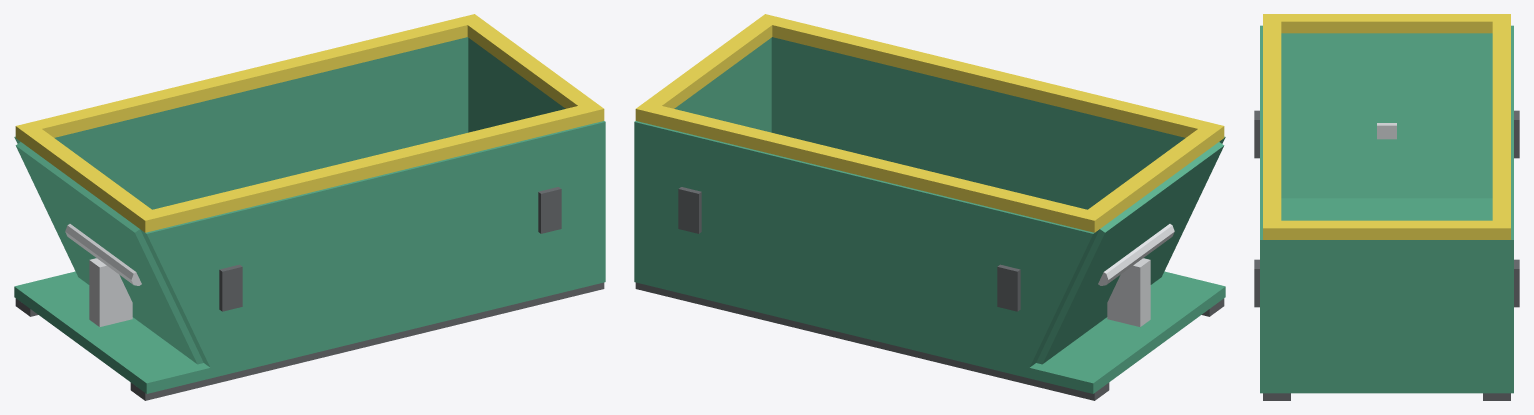
The model's file is recycling-and-waste-transfer-yard-recycling-and-waste--22194309__34895.glb.
3 views of the same model, side by side, from view 1: azimuth 30°, elevation 25°; view 2: azimuth 150°, elevation 25°; view 3: azimuth 270°, elevation 25° (orthographic). The views are drawn at different scales.
Parts seen in each view (by area): view 1: recycling-and-waste-transfer-yard-open-top-skip; view 2: recycling-and-waste-transfer-yard-open-top-skip; view 3: recycling-and-waste-transfer-yard-open-top-skip.
Boxes of the visible parts, x1=… form: recycling-and-waste-transfer-yard-open-top-skip: x1=14, y1=14, x2=605, y2=400; recycling-and-waste-transfer-yard-open-top-skip: x1=634, y1=14, x2=1225, y2=400; recycling-and-waste-transfer-yard-open-top-skip: x1=1254, y1=14, x2=1519, y2=400.
Size of the model in its own units: 3.64 by 1.35 by 1.88.
